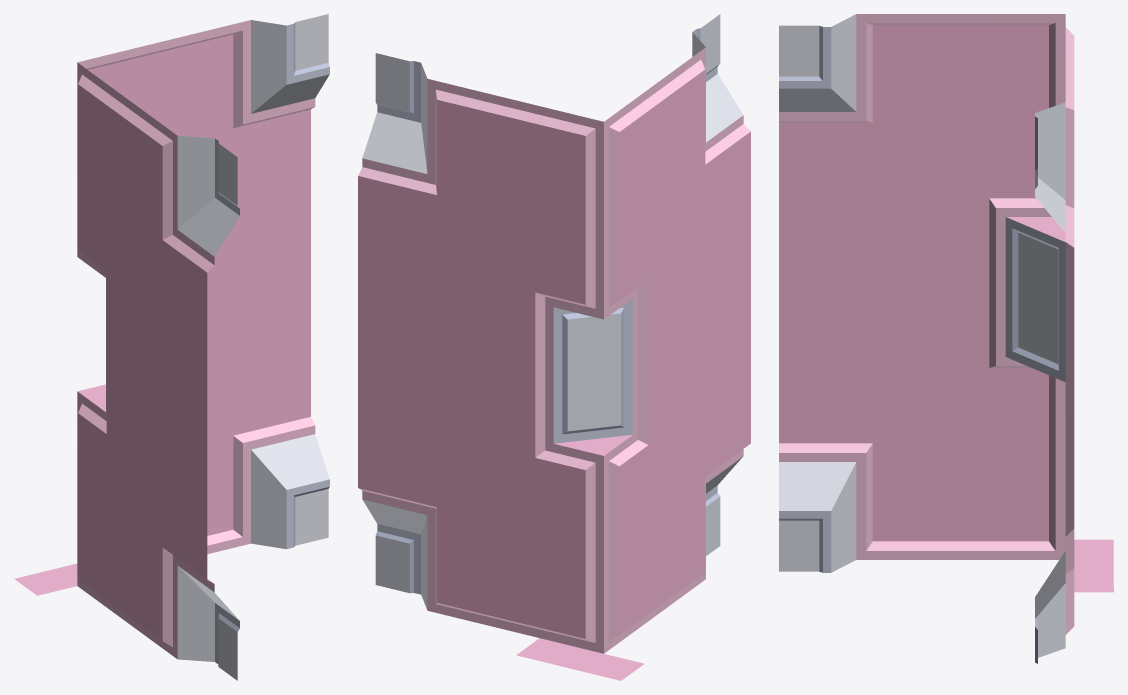
Rendered from WallPanel_CornerIn.fbx.
3 views of the same model, side by side, from view 1: azimuth 30°, elevation 25°; view 2: azimuth 150°, elevation 25°; view 3: azimuth 270°, elevation 25° (orthographic). The views are drawn at different scales.
Parts seen in each view (by area): view 1: CornerPanelIn1; view 2: CornerPanelIn1; view 3: CornerPanelIn1.
Boxes of the visible parts, x1,y1,x2,y2 form: CornerPanelIn1: (14,14,329,680); CornerPanelIn1: (358,14,750,680); CornerPanelIn1: (779,14,1113,663).
Size of the model in its own units: 200 by 360 by 200.
1 material, 1 textured.
